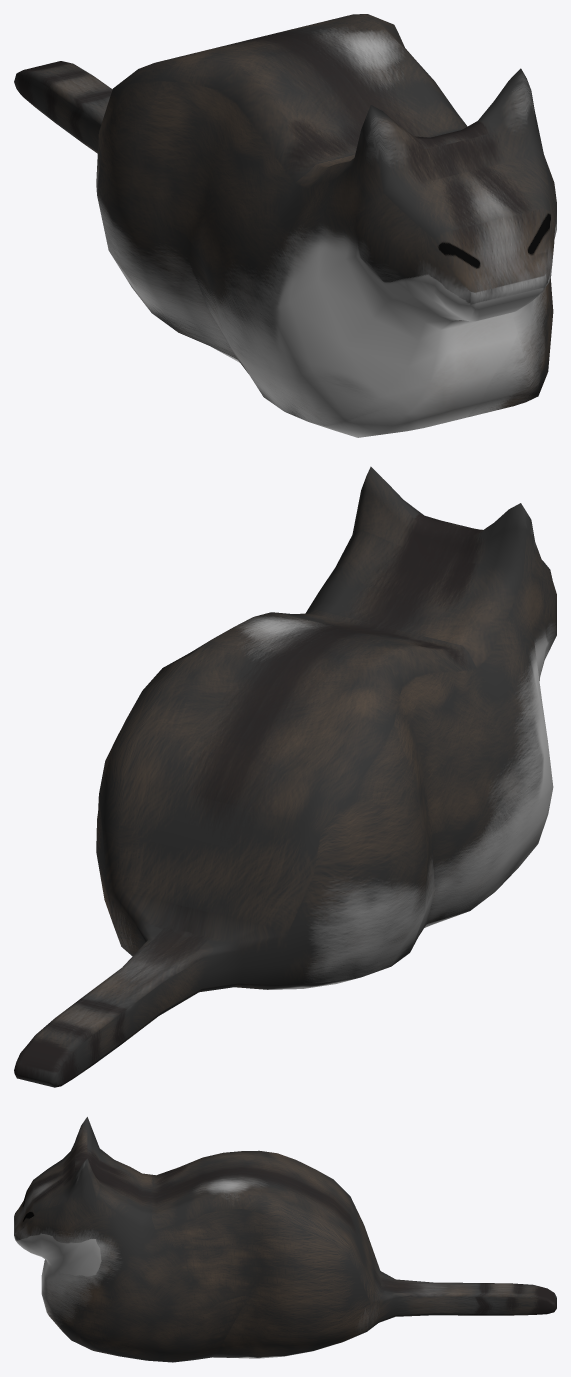
The model's file is MOD_Atrium the cat.fbx.
3 renders of one model, top to bottom at view 1: azimuth 30°, elevation 25°; view 2: azimuth 150°, elevation 25°; view 3: azimuth 270°, elevation 25°, orthographic. The views are drawn at different scales.
Visible parts, largest first — view 1: pCube17; view 2: pCube17; view 3: pCube17.
Boxes of the visible parts, box(x1,y1,x2,y2) form: pCube17: box(14, 14, 556, 437); pCube17: box(14, 466, 556, 1087); pCube17: box(14, 1117, 556, 1362).
Size of the model in its own units: 34.45 by 38.16 by 92.73.
